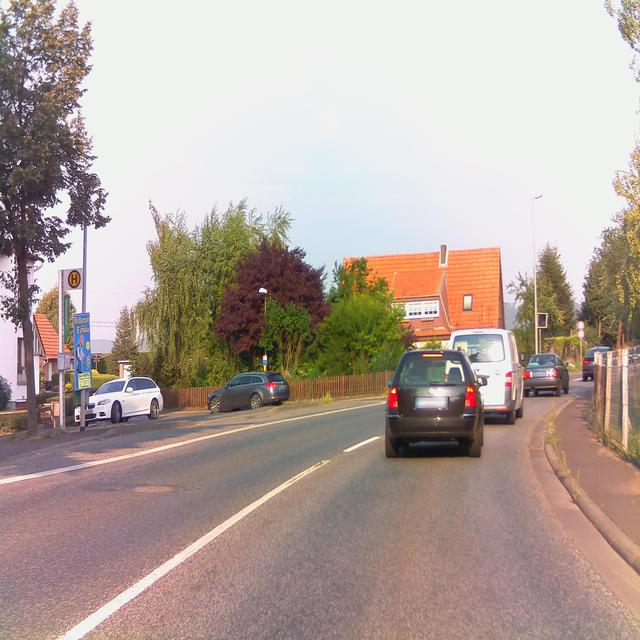Billboard: (62, 267, 92, 390), (57, 352, 70, 370)
Car: (384, 328, 568, 458), (74, 377, 162, 427), (207, 371, 289, 412), (581, 346, 612, 381)
Manhole: (125, 483, 185, 495)
Trash Can: (73, 383, 88, 405)
Vegetation: (90, 197, 445, 387), (536, 138, 639, 361), (589, 393, 639, 469), (602, 0, 639, 97)
